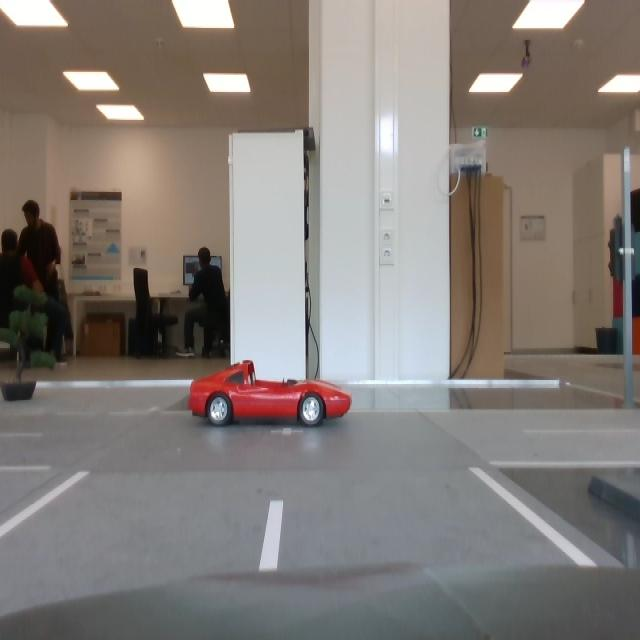car: (189, 360, 352, 428)
potted plant: (1, 284, 56, 401)
traffic light: (609, 218, 623, 283)
